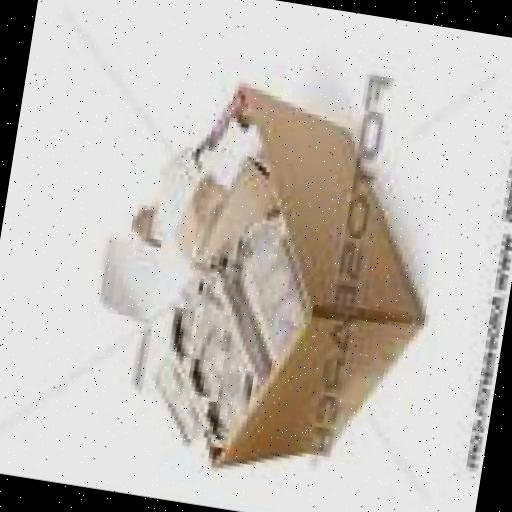cardboard: (128, 75, 448, 492), (144, 255, 286, 450), (201, 206, 326, 392), (186, 146, 288, 282), (166, 168, 232, 274), (90, 232, 158, 320), (193, 106, 254, 176), (166, 154, 206, 210), (122, 196, 164, 236), (131, 322, 152, 380)
